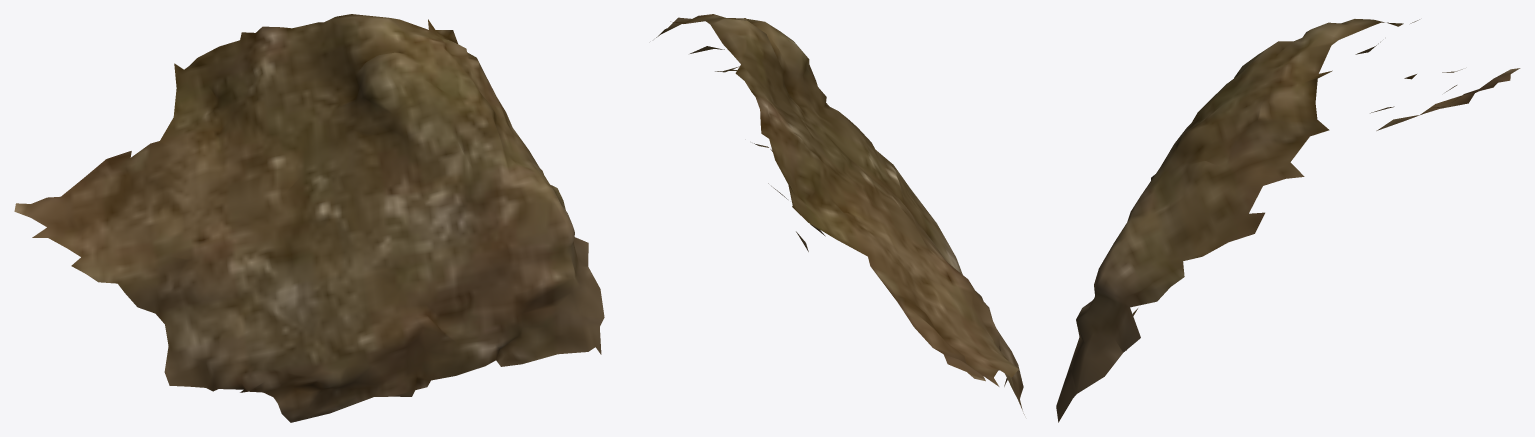
Rendered from pedras_musgo_1.glb.
3 views of the same model, side by side, from view 1: azimuth 30°, elevation 25°; view 2: azimuth 150°, elevation 25°; view 3: azimuth 270°, elevation 25° (orthographic). The views are drawn at different scales.
Visible parts, largest first — view 1: pedras_musgo; view 2: pedras_musgo; view 3: pedras_musgo.
Boxes of the visible parts, box(x1,y1,x2,y2) form: pedras_musgo: box(14, 14, 604, 422); pedras_musgo: box(656, 14, 1024, 414); pedras_musgo: box(1056, 19, 1520, 422).
Bounding box in the file's own units: 1.45 × 1.05 × 1.16.
1 material, 1 textured.
